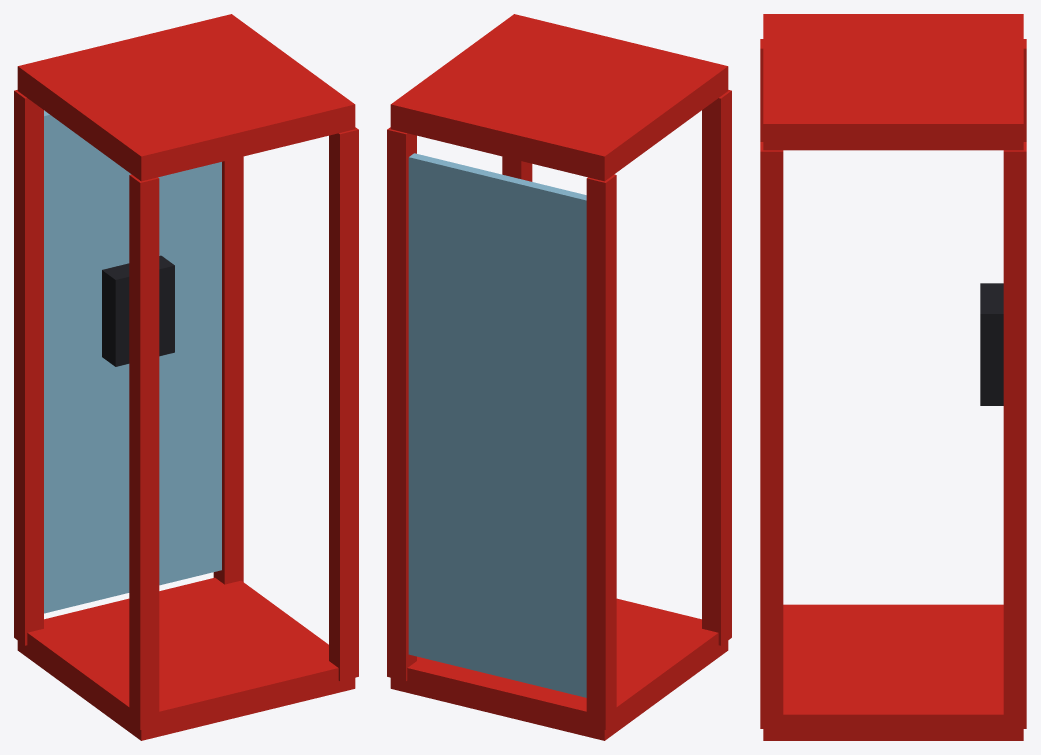
The model's file is phone_booth.glb.
3 renders of one model, left to right at view 1: azimuth 30°, elevation 25°; view 2: azimuth 150°, elevation 25°; view 3: azimuth 270°, elevation 25°, orthographic. The views are drawn at different scales.
Parts seen in each view (by area): view 1: phone_booth; view 2: phone_booth; view 3: phone_booth.
Boxes of the visible parts, x1,y1,x2,y2 form: phone_booth: [14, 14, 358, 740]; phone_booth: [387, 14, 731, 740]; phone_booth: [760, 14, 1026, 740].
Size of the model in its own units: 0.92 by 2.35 by 0.92.
